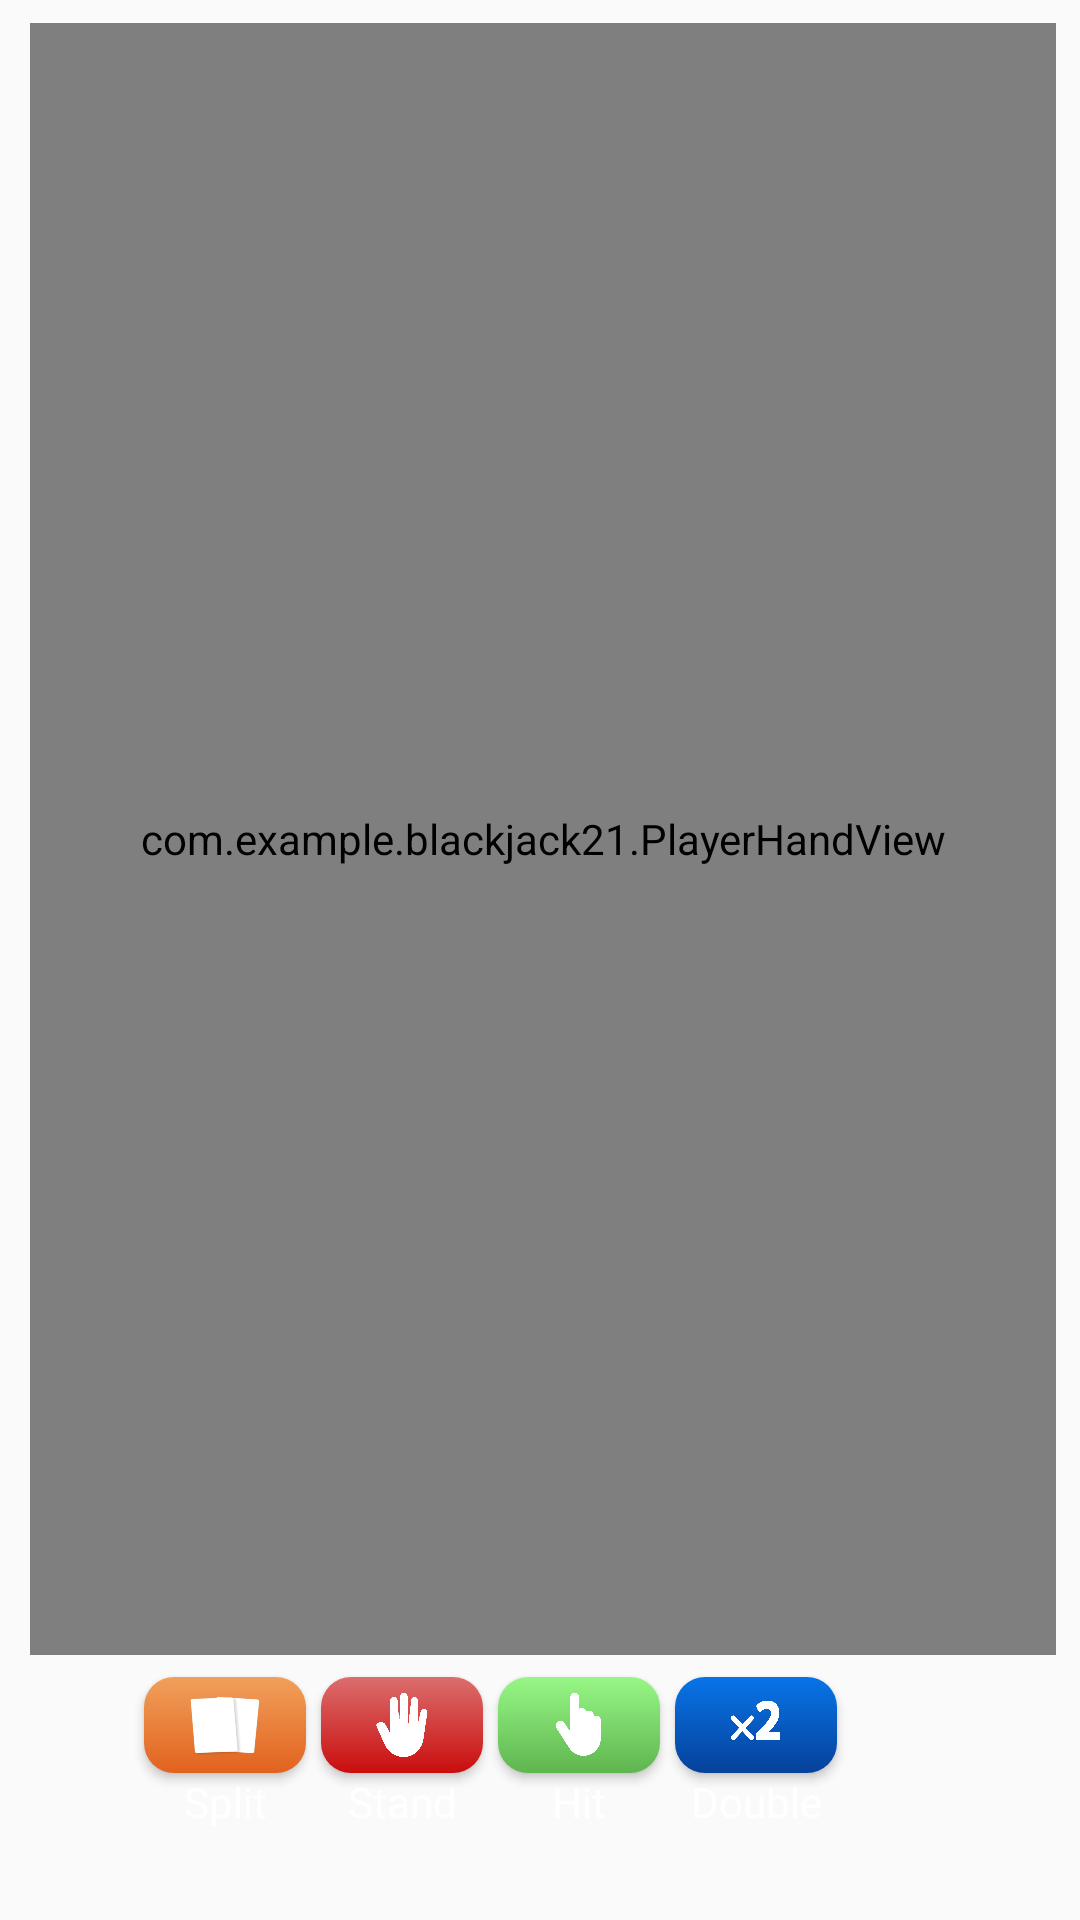

Icons on this 1080 × 1920 Android screen, each with the point to tap as (x,y):
pointhand: (579,1725)
stophand: (402,1725)
